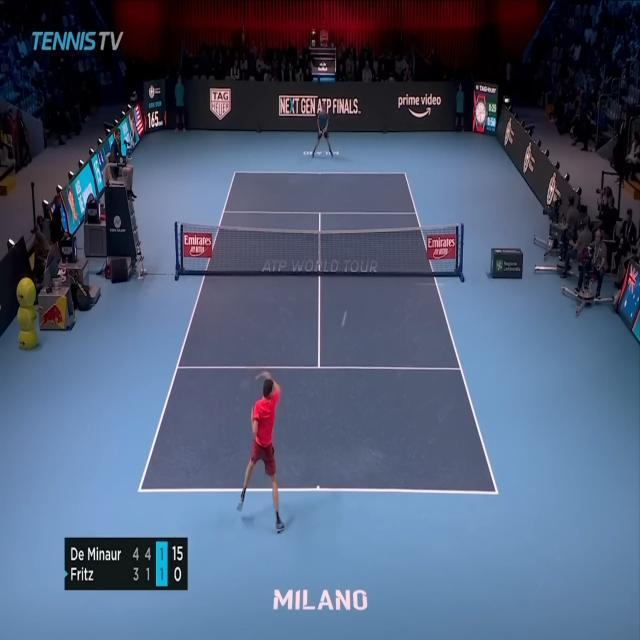court: (137, 172, 500, 496)
net: (173, 219, 466, 277)
player: (236, 370, 286, 536)
